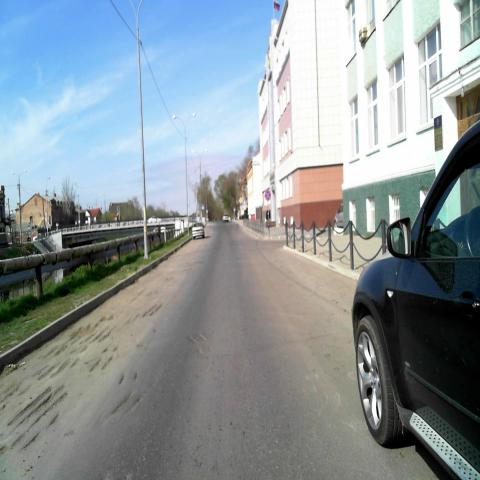3_27: (265, 189, 271, 201)
